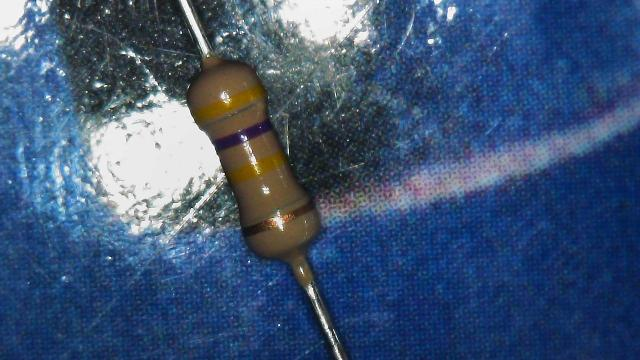gold: (244, 200, 314, 236)
resistor: (151, 29, 343, 295)
violet: (212, 118, 273, 151)
yellow: (194, 86, 263, 121), (228, 152, 284, 184)
